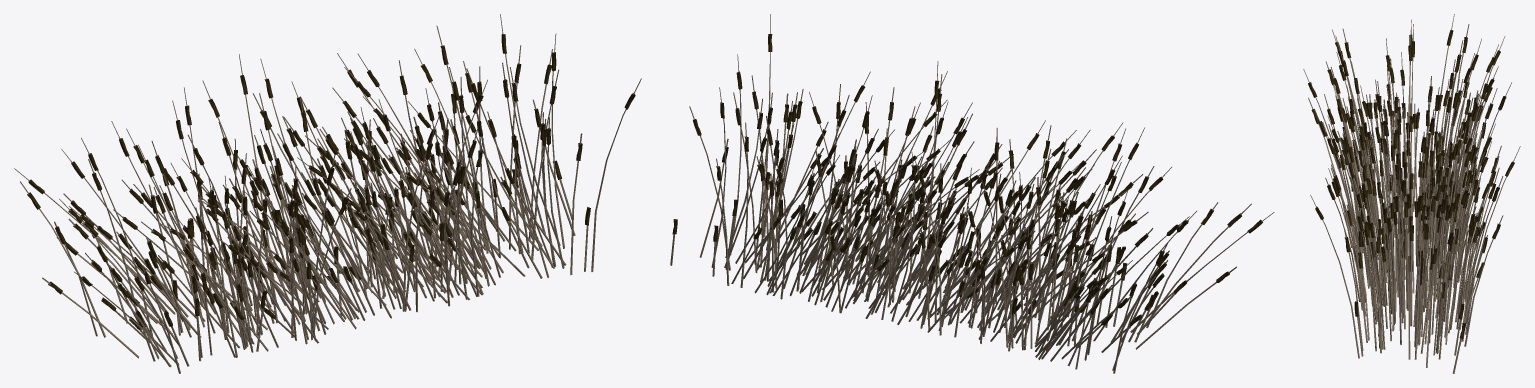
The model's file is grass_wall.fbx.
3 views of the same model, side by side, from view 1: azimuth 30°, elevation 25°; view 2: azimuth 150°, elevation 25°; view 3: azimuth 270°, elevation 25° (orthographic). The views are drawn at different scales.
Visible parts, largest first — view 1: cattail1Main, cattail1Flower; view 2: cattail1Main, cattail1Flower; view 3: cattail1Main, cattail1Flower.
Boxes of the visible parts, left/top/right/bottom form: cattail1Main: left=14, top=14, right=641, bottom=373; cattail1Flower: left=27, top=34, right=635, bottom=329; cattail1Main: left=670, top=14, right=1274, bottom=373; cattail1Flower: left=672, top=34, right=1262, bottom=326; cattail1Main: left=1303, top=14, right=1520, bottom=373; cattail1Flower: left=1308, top=30, right=1514, bottom=338.
Bounding box in the file's own units: 37.82 × 13.72 × 15.2.
